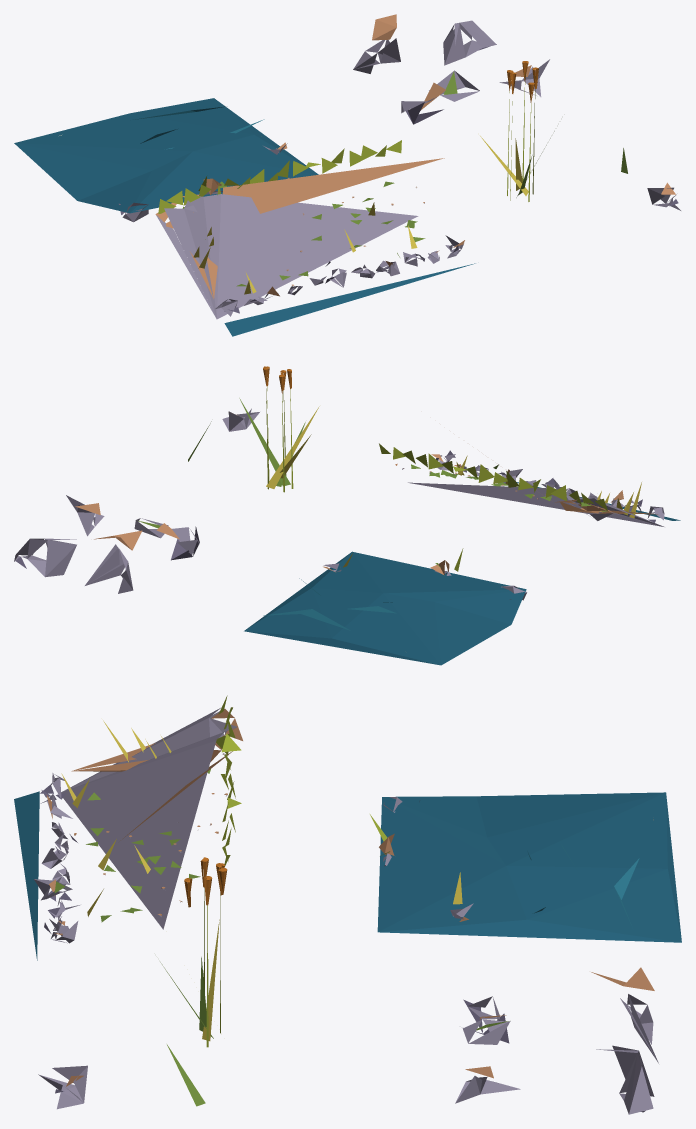
Rendered from kit.river-terrain.lod2.glb.
The picture shows the model from 3 angles, top to bottom: view 1: azimuth 30°, elevation 25°; view 2: azimuth 150°, elevation 25°; view 3: azimuth 270°, elevation 25°; orthographic projection. The views are drawn at different scales.
Parts seen in each view (by area): view 1: slopedBank, waterSurface, rocks, reeds; view 2: waterSurface, slopedBank, rocks, reeds; view 3: waterSurface, slopedBank, rocks, reeds.
Boxes of the visible parts, x1=… form: slopedBank: x1=155, y1=140, x2=475, y2=336; waterSurface: x1=14, y1=98, x2=318, y2=222; rocks: x1=353, y1=14, x2=549, y2=124; reeds: x1=480, y1=61, x2=680, y2=210; waterSurface: x1=244, y1=548, x2=526, y2=665; slopedBank: x1=379, y1=443, x2=680, y2=526; rocks: x1=14, y1=495, x2=199, y2=593; reeds: x1=188, y1=366, x2=319, y2=492; waterSurface: x1=370, y1=792, x2=681, y2=942; slopedBank: x1=14, y1=695, x2=242, y2=960; rocks: x1=455, y1=967, x2=658, y2=1114; reeds: x1=38, y1=857, x2=227, y2=1109.
Size of the model in its own units: 8.99 by 2.29 by 7.76.
